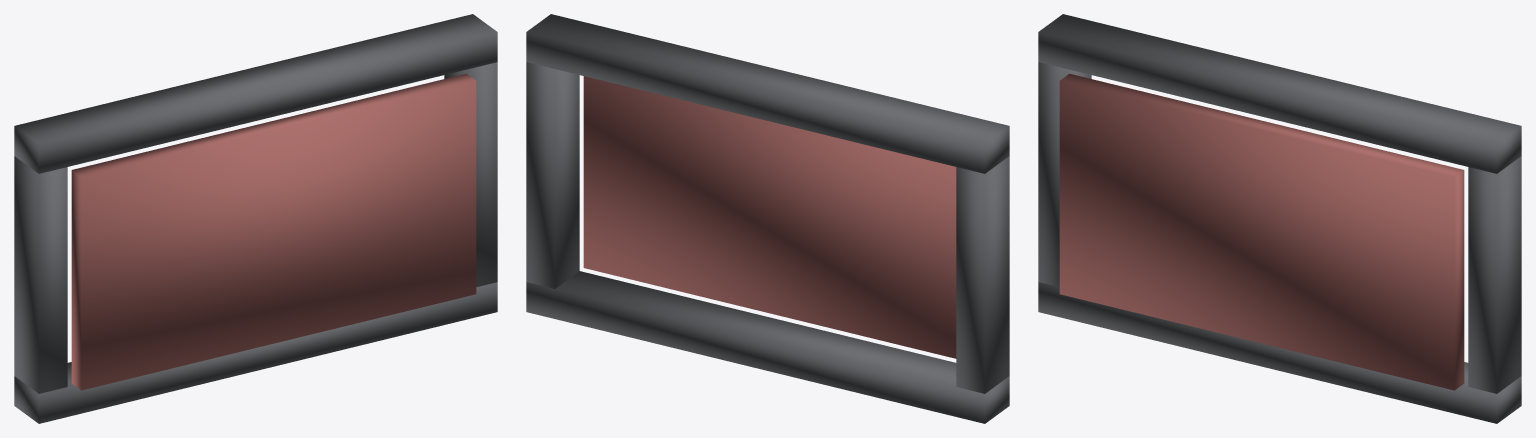
Rendered from on_air_wall_sign__deep.glb.
3 renders of one model, left to right at view 1: azimuth 30°, elevation 25°; view 2: azimuth 150°, elevation 25°; view 3: azimuth 330°, elevation 25°, orthographic.
Parts seen in each view (by area): view 1: world; view 2: world; view 3: world.
Boxes of the visible parts, x1,y1,x2,y2 form: world: (14, 14, 497, 423); world: (526, 14, 1009, 423); world: (1038, 14, 1521, 423).
Size of the model in its own units: 0.72 by 0.42 by 0.0958.
